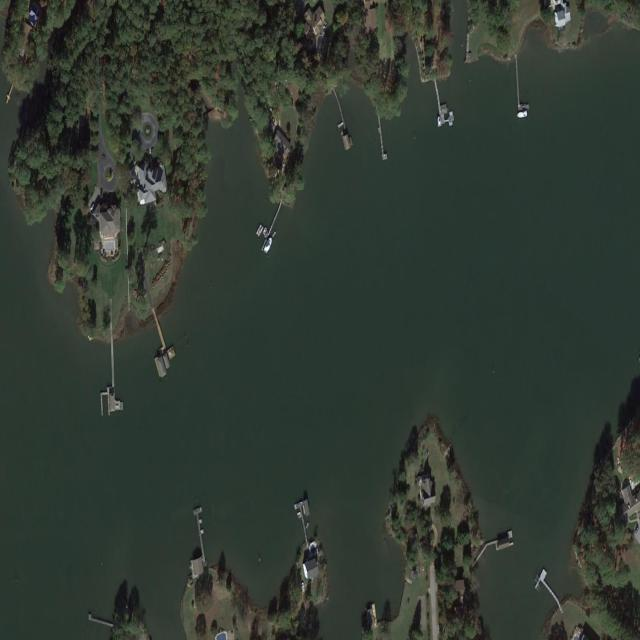ship: (264, 235, 274, 256), (255, 223, 264, 239), (518, 111, 529, 121), (305, 520, 310, 530)
small-vehicle: (300, 581, 306, 595)
